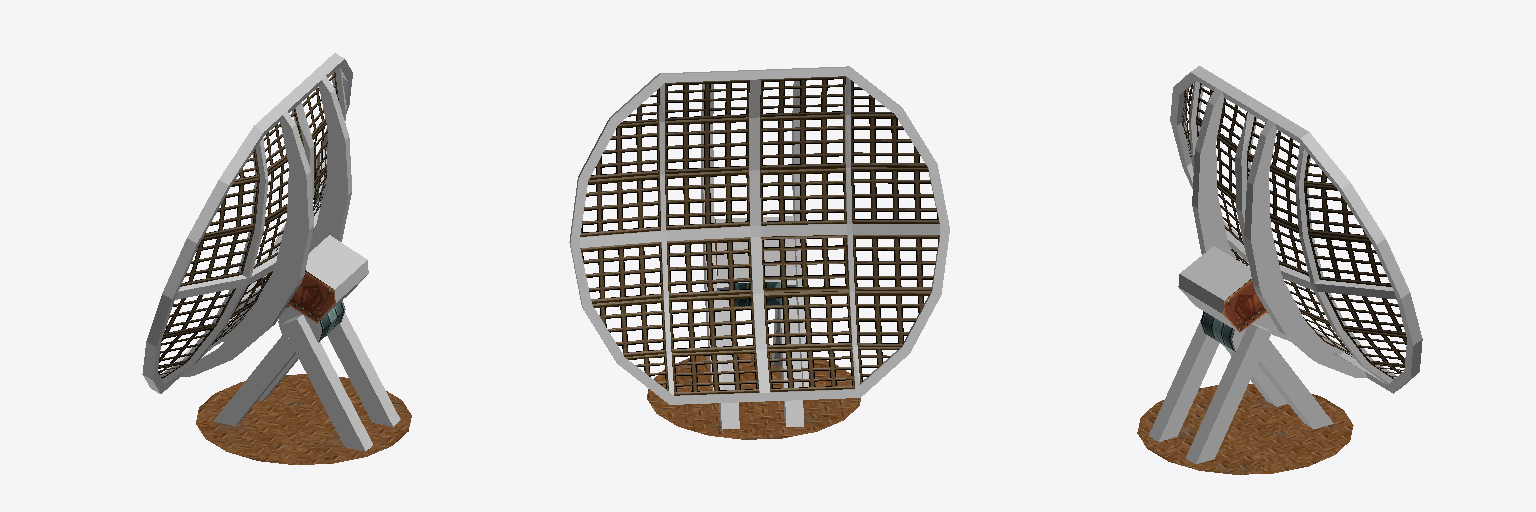
3 views of the same model, side by side, from view 1: azimuth 30°, elevation 25°; view 2: azimuth 150°, elevation 25°; view 3: azimuth 270°, elevation 25° (orthographic).
Parts seen in each view (by area): view 1: DUMMY; view 2: DUMMY; view 3: DUMMY.
Boxes of the visible parts, box(x1,y1,x2,y2) form: DUMMY: box(142, 53, 411, 464); DUMMY: box(569, 66, 949, 439); DUMMY: box(1137, 66, 1422, 474).
Bounding box in the file's own units: 9.27 × 10.6 × 8.08.
Materials: 4 (3 with a texture image).